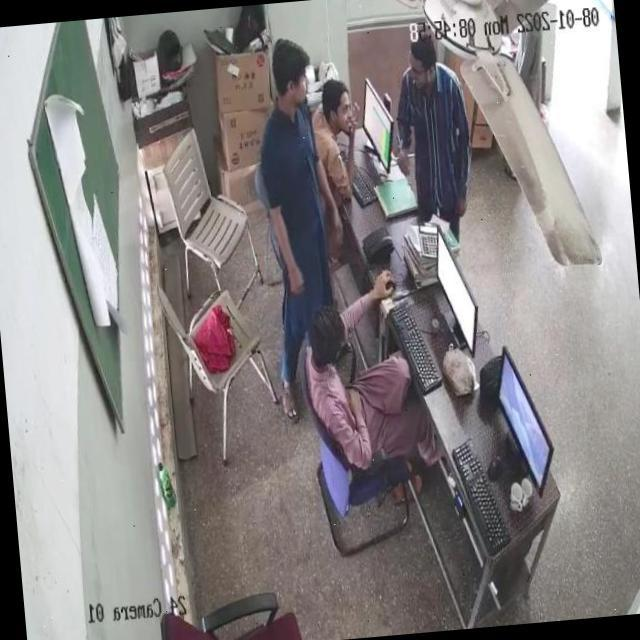person: (250, 40, 336, 408), (297, 298, 424, 474), (396, 31, 464, 200), (302, 63, 360, 196)
